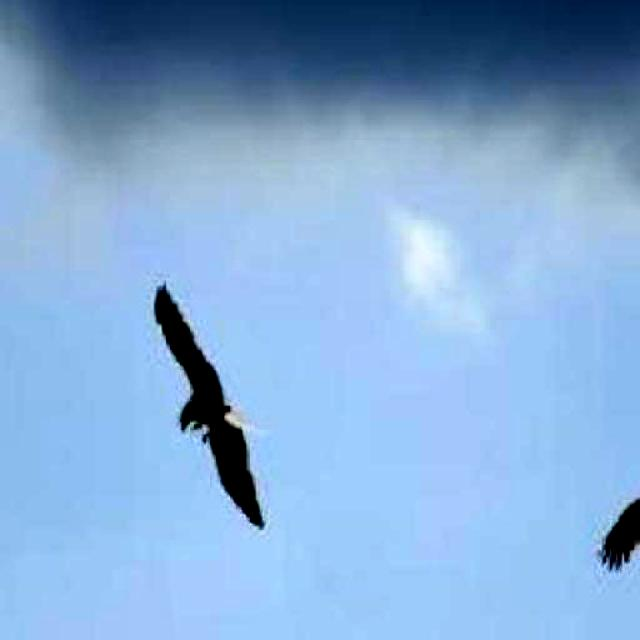airplane: (155, 284, 269, 534), (594, 374, 640, 574)
